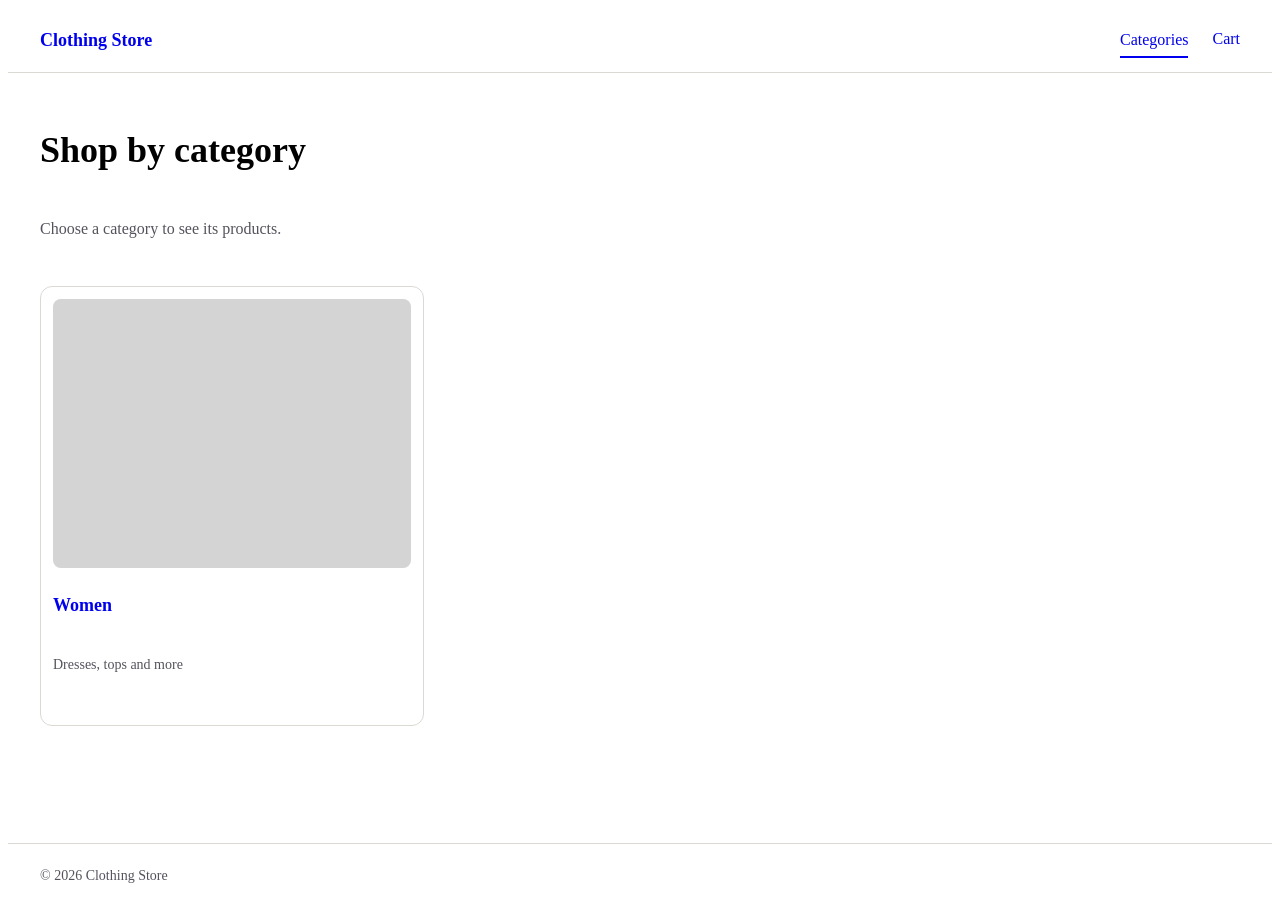
Scenario: app routes › navigates categories → listing → details through real links
Click the link "Women": (82, 605) [53,595,112,615]
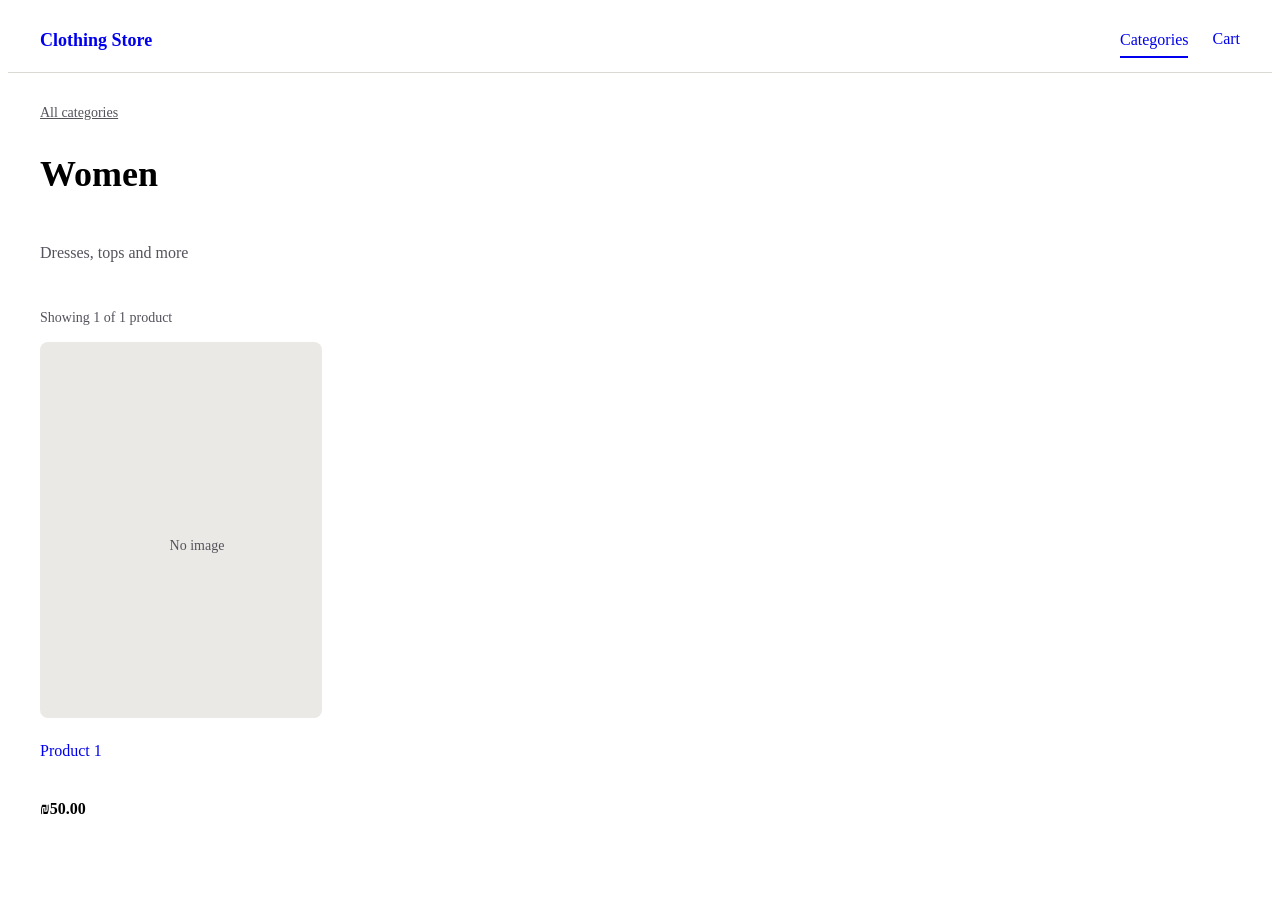
Click the link "Product 1": (71, 751) [40,742,102,759]
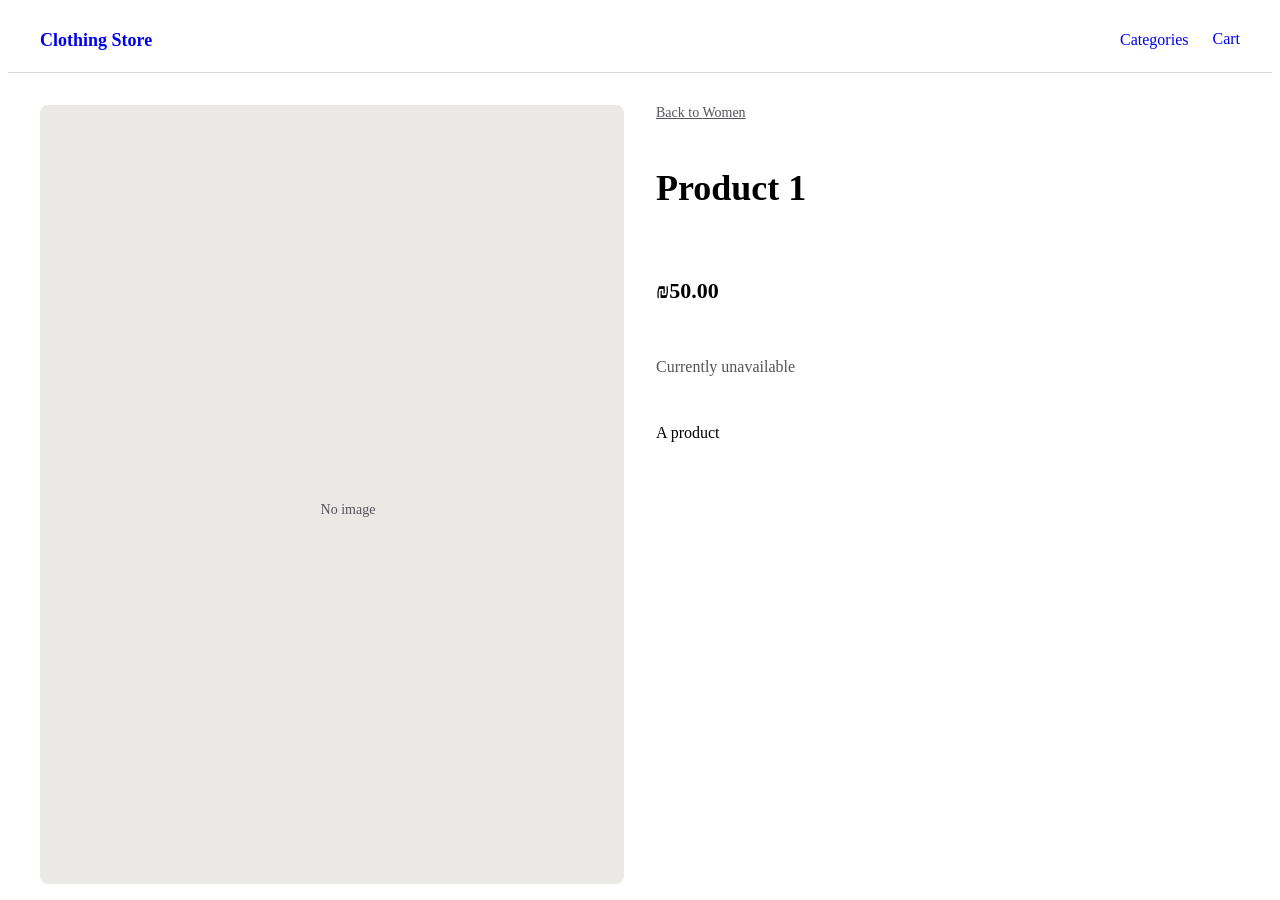
Check: the link "Back to Women" is shown, box [656,105,746,121]
